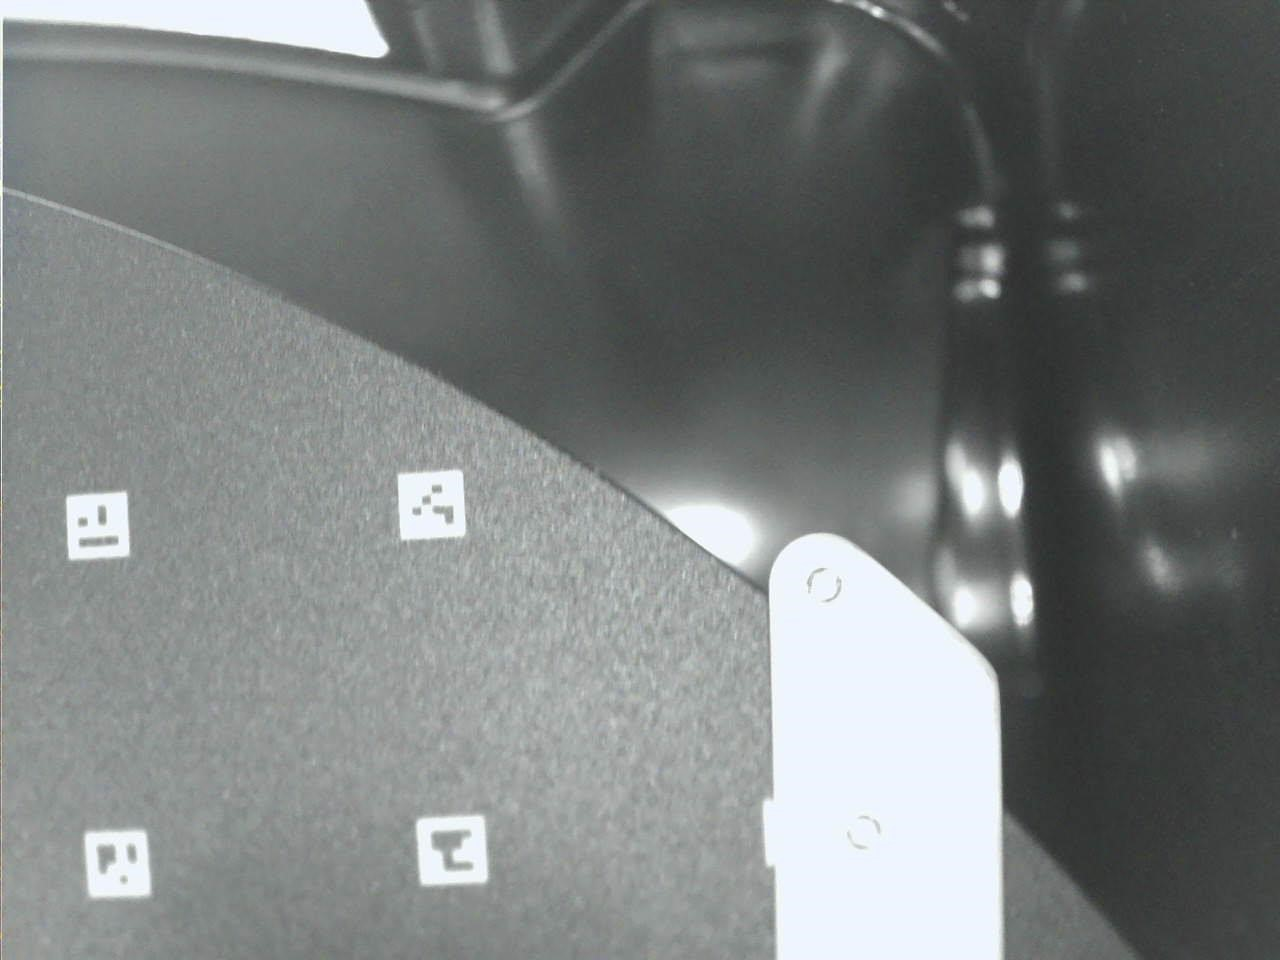forktip: (751, 509, 1026, 960)
